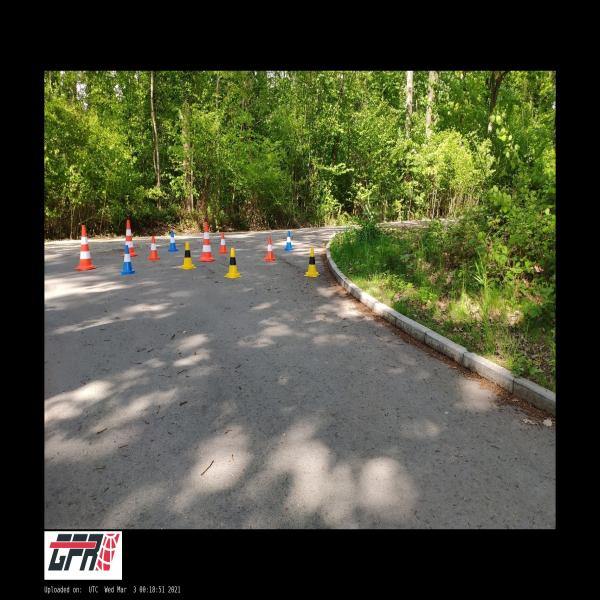blue_cone: (121, 245, 135, 275), (168, 231, 179, 251), (284, 232, 294, 250)
large_orange_cone: (75, 225, 96, 270), (198, 223, 215, 261), (121, 221, 138, 256)
orange_cone: (148, 236, 160, 260), (264, 238, 276, 261), (218, 233, 228, 254)
yellow_cone: (224, 248, 242, 278), (305, 248, 320, 278), (180, 242, 196, 270)
